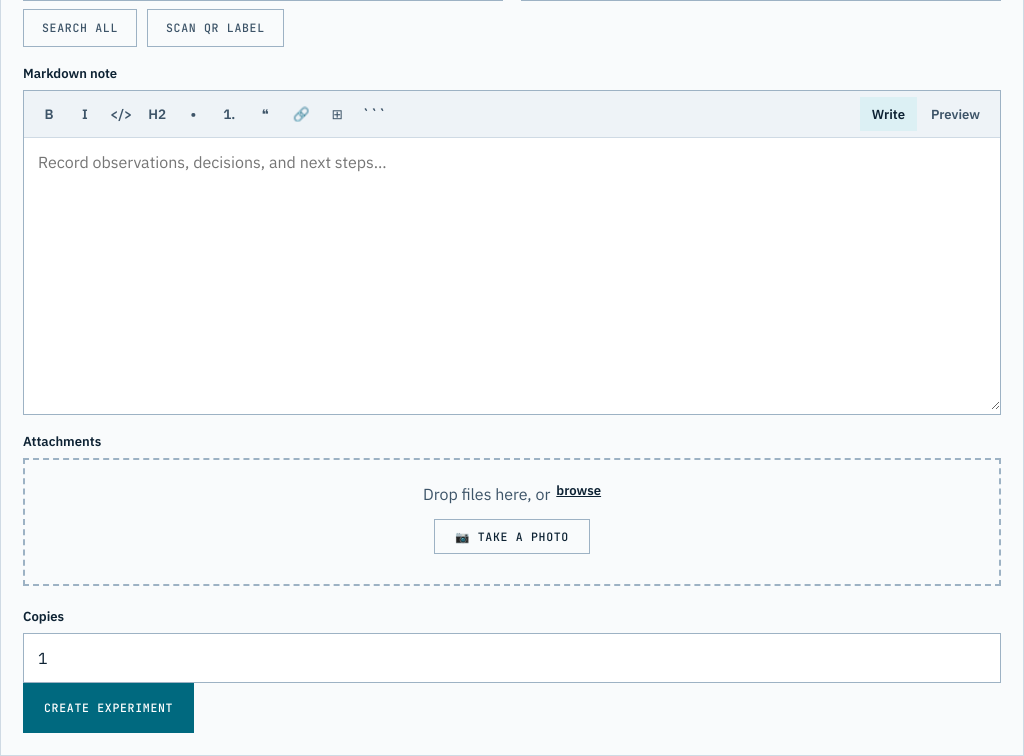
Test: Batch create › replaces the attachment dropzone with a note when Copies > 1
(page scrolled)
Check: the text "Drop files here, or" is shown, box [423,484,550,504]
Replace the text in the number field labelled "Copies" with "2": (512, 658) [23,633,1001,683]
(page scrolled)
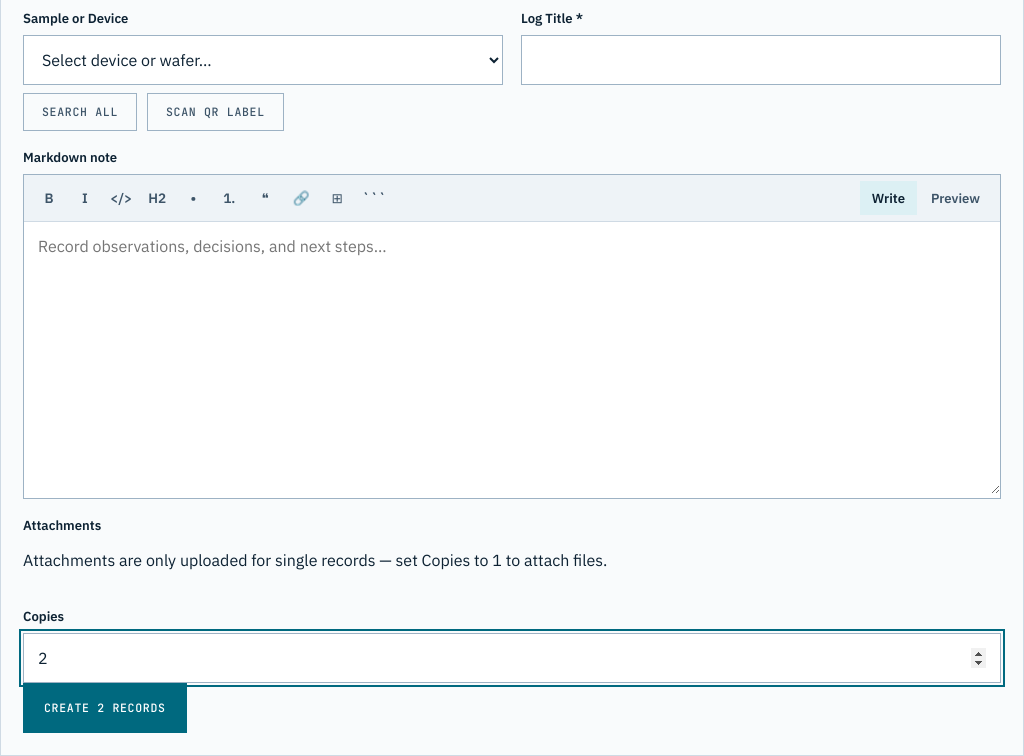
Check: the text "Drop files here, or" is gone
Check: the text "Attachments are only uploaded for single records" is shown, box [23,550,607,570]
